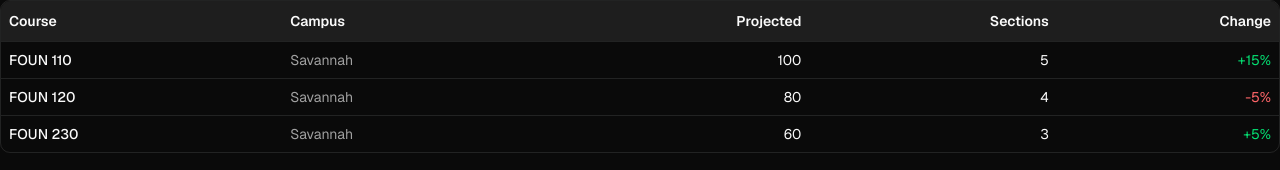
Test case: DataTable › clicking Change header sorts rows ascending by changePercent
Click the button "Change" at (1245, 21), box [1220,11,1271,31]
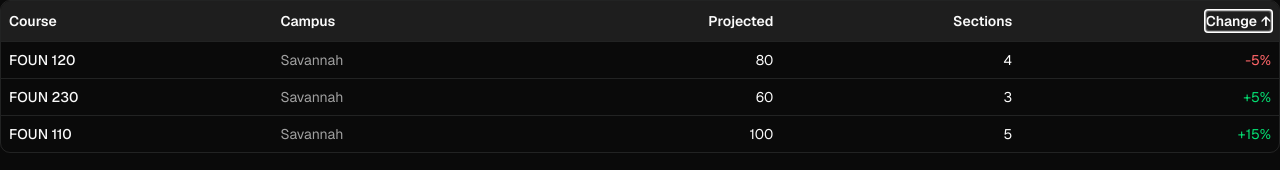
expect the cell "FOUN 120" is shown: met, box [1,41,272,78]
expect the cell "FOUN 110" is shown: met, box [1,115,272,152]
